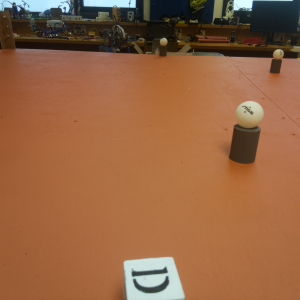blockD: (125, 259, 183, 299)
corner: (1, 10, 13, 49)
obstacle: (231, 99, 262, 167), (270, 50, 283, 73), (159, 37, 167, 55)
